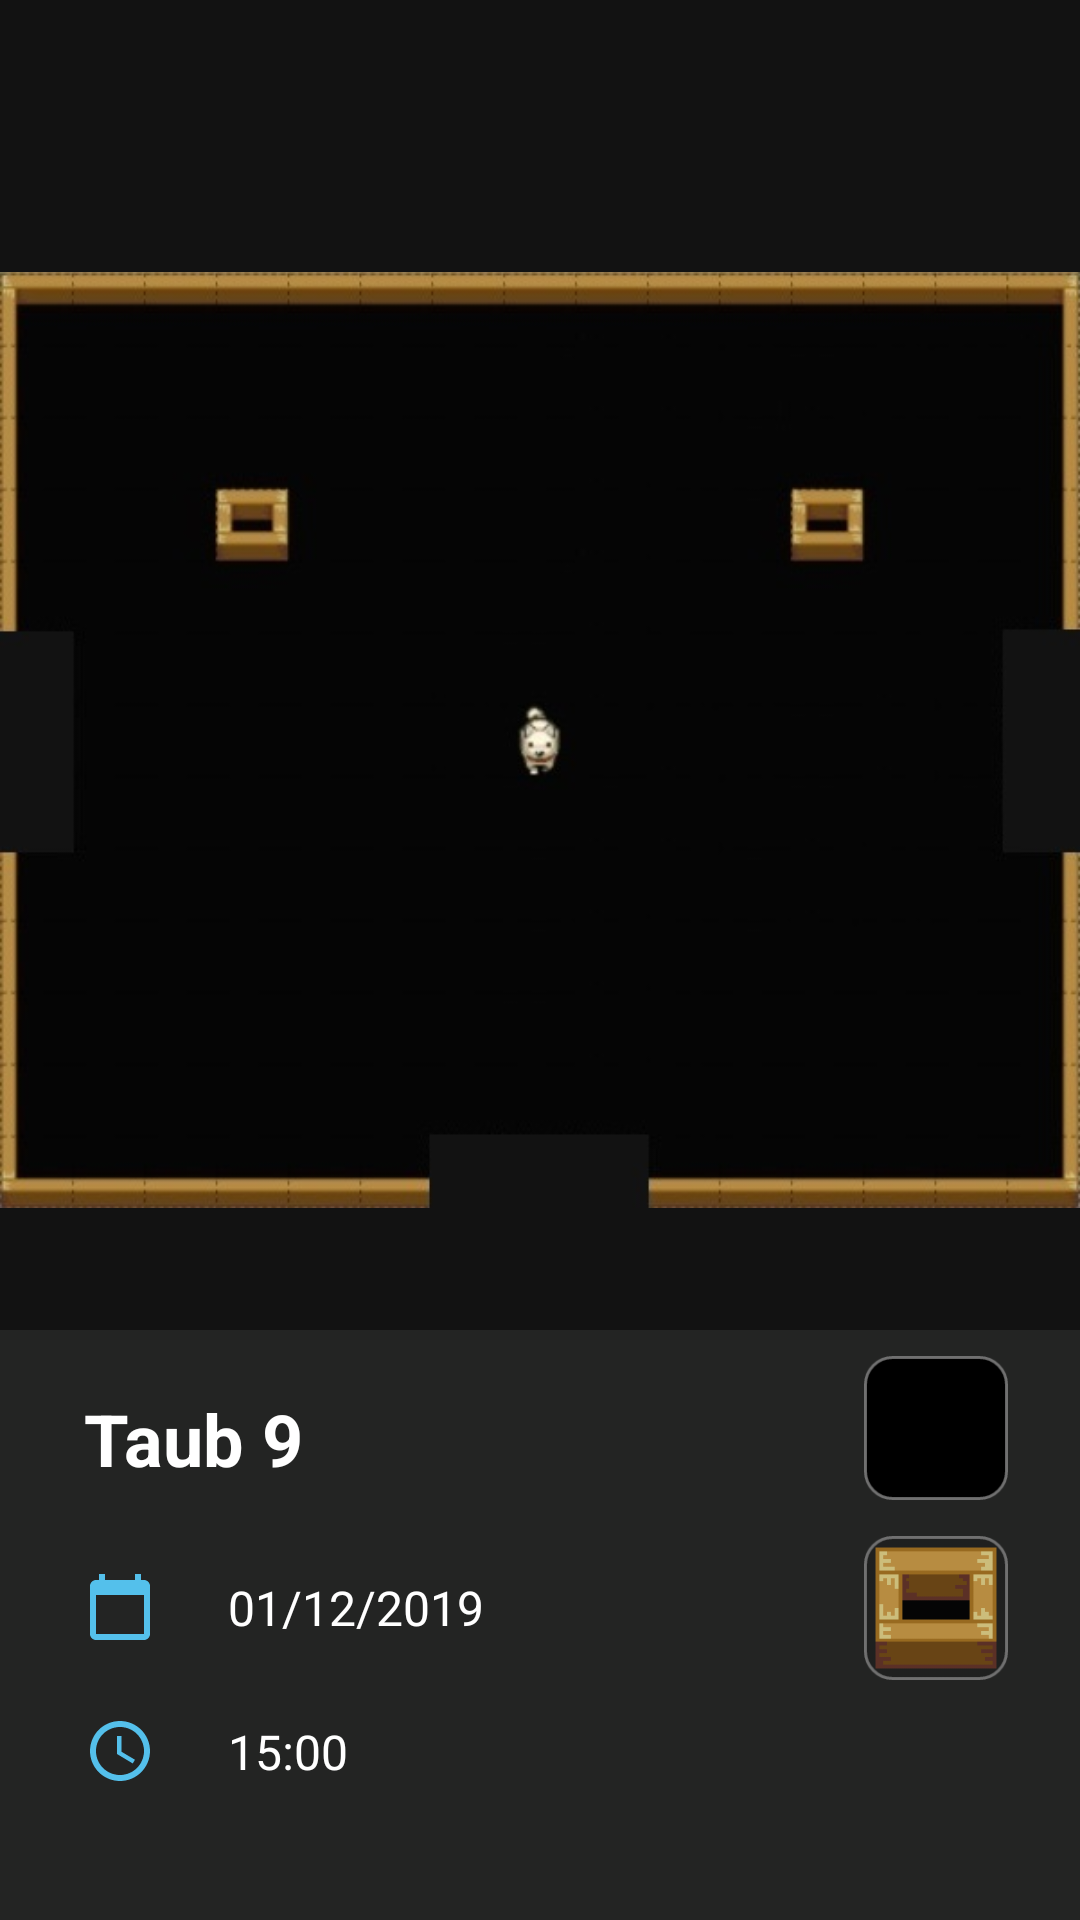

Icon click points for this 1080 × 1920 phone screenshot, format [x,y]:
date: [120,1607]
time: [120,1751]
wall tile: [936,1608]
